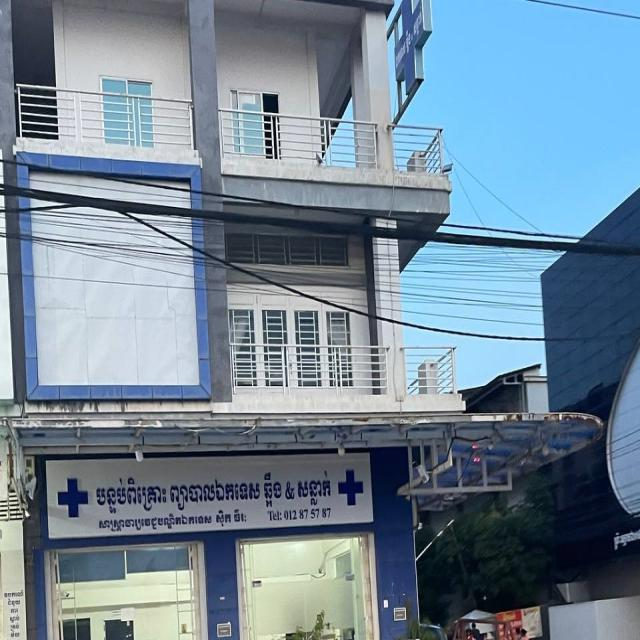2: (93, 469, 283, 517), (95, 507, 251, 534)
279: (283, 506, 333, 521)
Yolov11kh: (295, 466, 334, 506)
